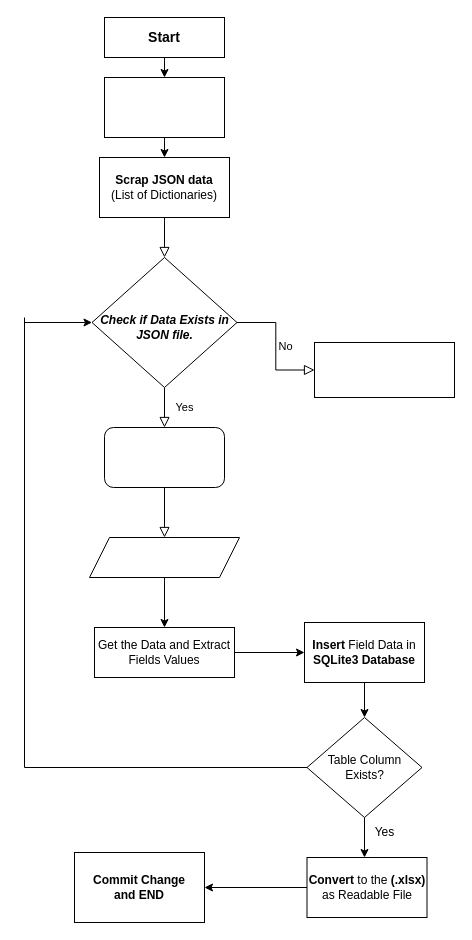
This 472x940 diagram has some shape labels left out. Here are the shapes that lost their labels. From the top down, the box of each, then its label:
(104, 76, 224, 138): Load API Key (including Query Parameters)
(314, 342, 454, 398): Show JSONDecoderError
(104, 426, 224, 488): Decode JSON Data
(88, 536, 240, 578): For Each Query Fields
